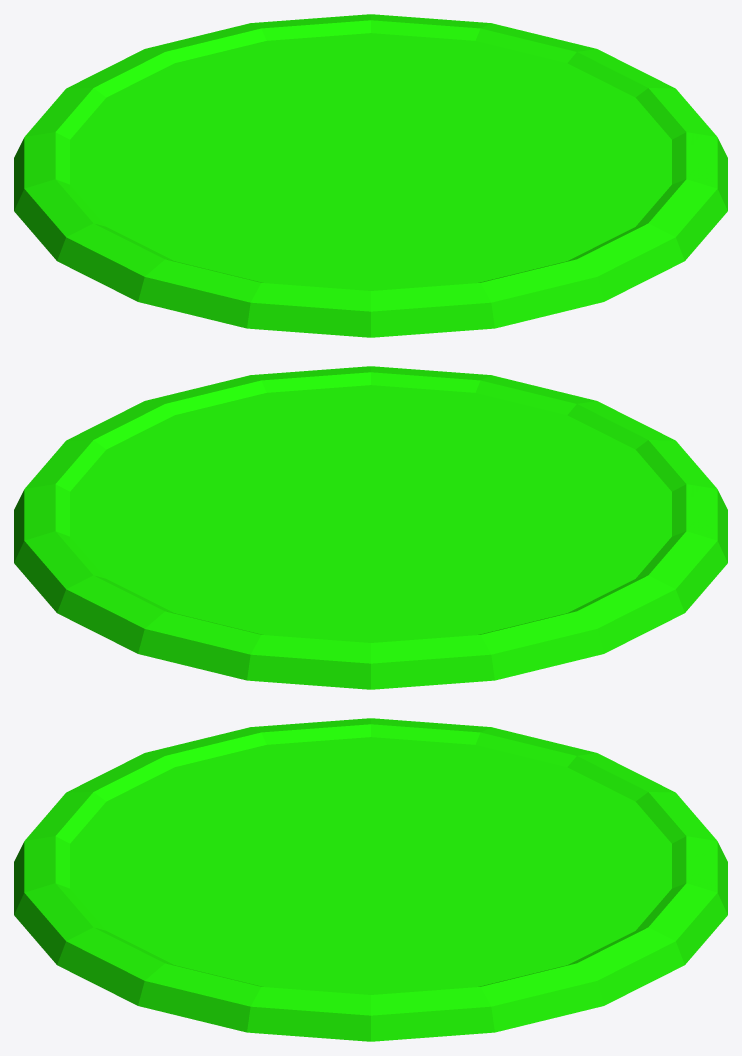
File: umgebung_pizza_low.FBX
3 views of the same model, one above another, from view 1: azimuth 30°, elevation 25°; view 2: azimuth 150°, elevation 25°; view 3: azimuth 270°, elevation 25° (orthographic).
Visible parts, largest first — view 1: o_pizza_low; view 2: o_pizza_low; view 3: o_pizza_low.
Boxes of the visible parts, box(x1,y1,x2,y2) form: o_pizza_low: box(14, 14, 727, 337); o_pizza_low: box(14, 366, 727, 689); o_pizza_low: box(14, 718, 727, 1041).
Size of the model in its own units: 49.04 by 48.3 by 2.16.
